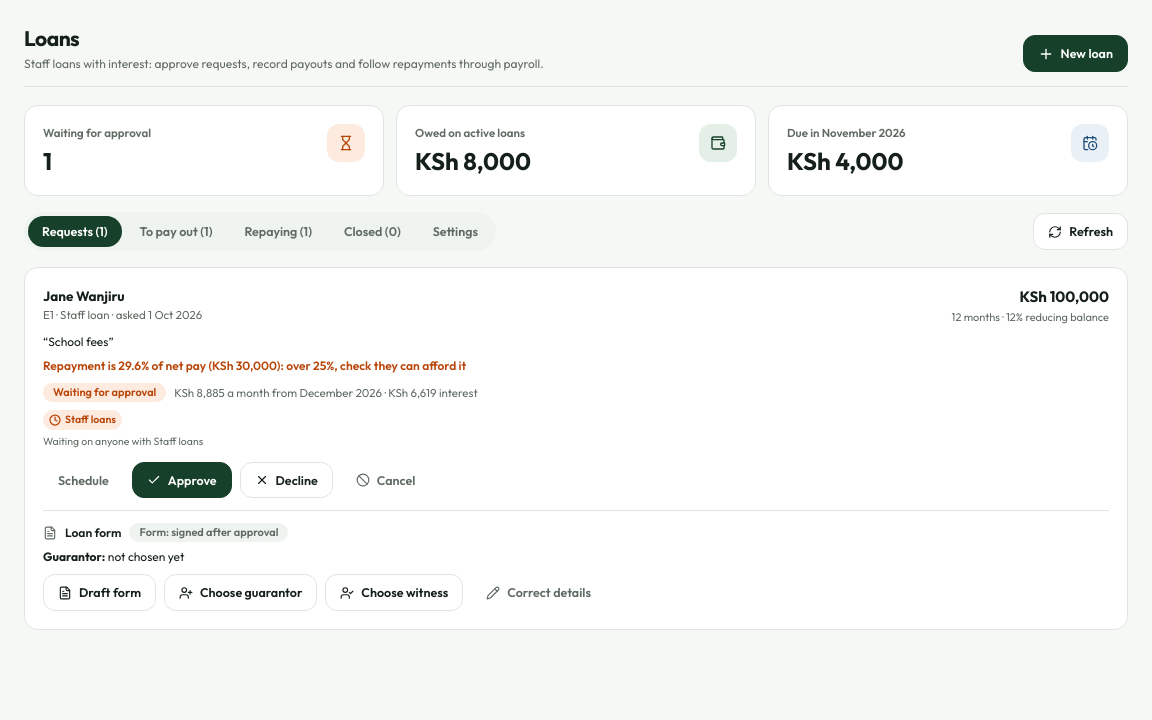
Test: the loans page › the witness is optional: signed by the borrower and guarantor, the form is ready to accept
Expected: the list item with test id "loan-r1" is shown, [24, 267, 1128, 630]
Click the button "To pay out (1)" at (176, 232), box [126, 216, 226, 247]
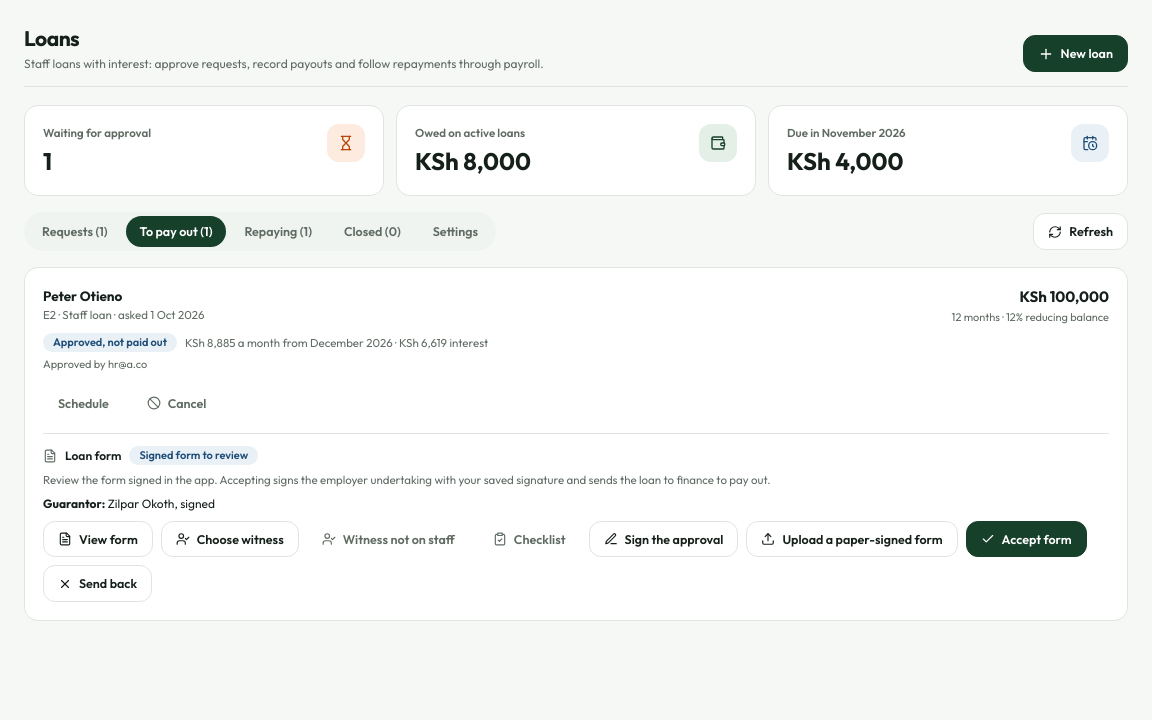
Expected: the text "Signed form to review" is shown, [130, 446, 258, 465]
Expected: the button "Accept form" is shown, [966, 520, 1087, 557]
